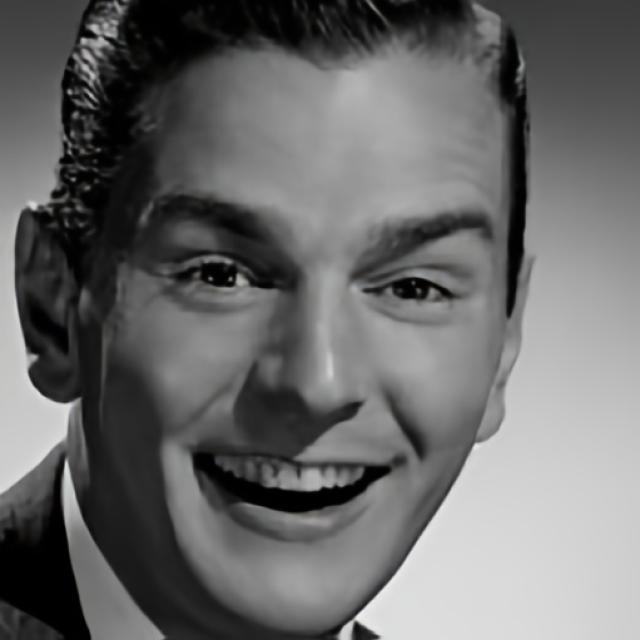happy: (79, 38, 496, 620)
